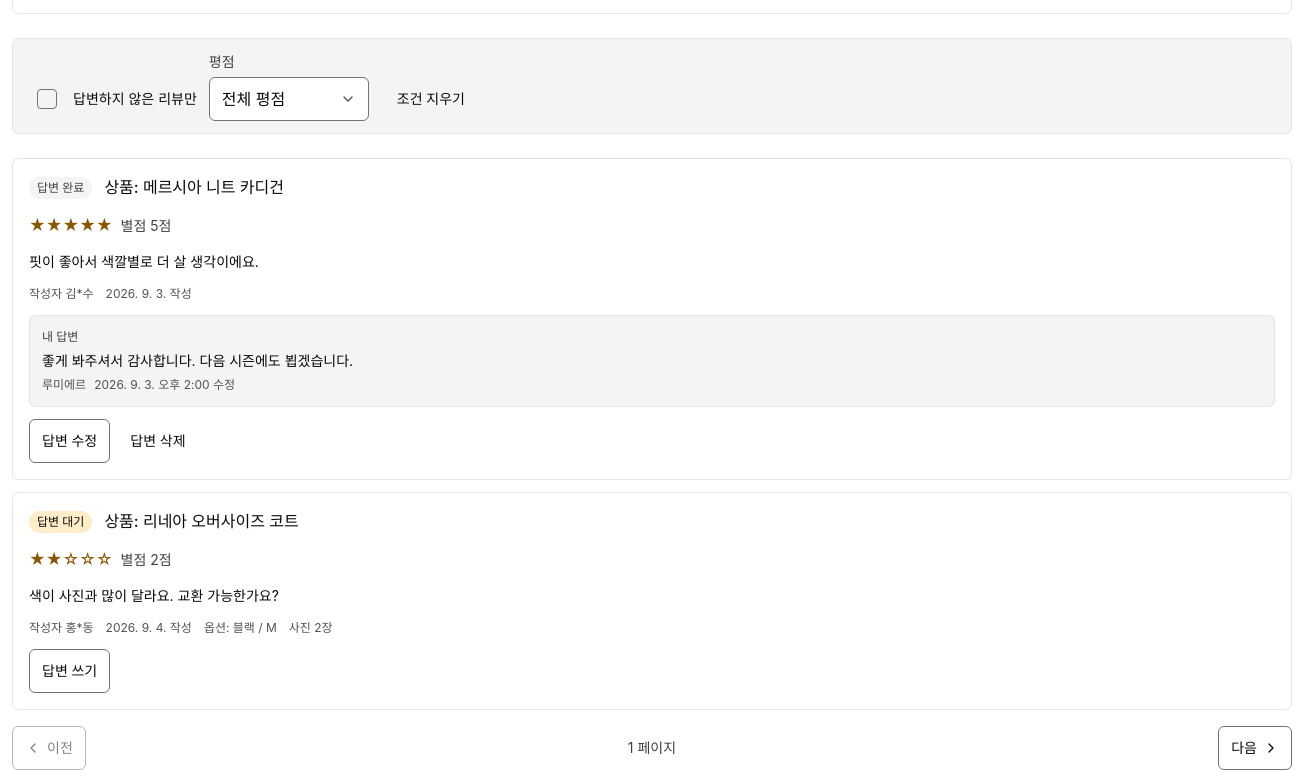
Test: the product review console › paging › hands the cursor back unchanged
(page scrolled)
Expected: the number of list items is 2, [12,158,1292,480]; [12,492,1292,710]
Click the button "다음".
click(1255, 748)  # box [1218,726,1292,769]
(page scrolled)
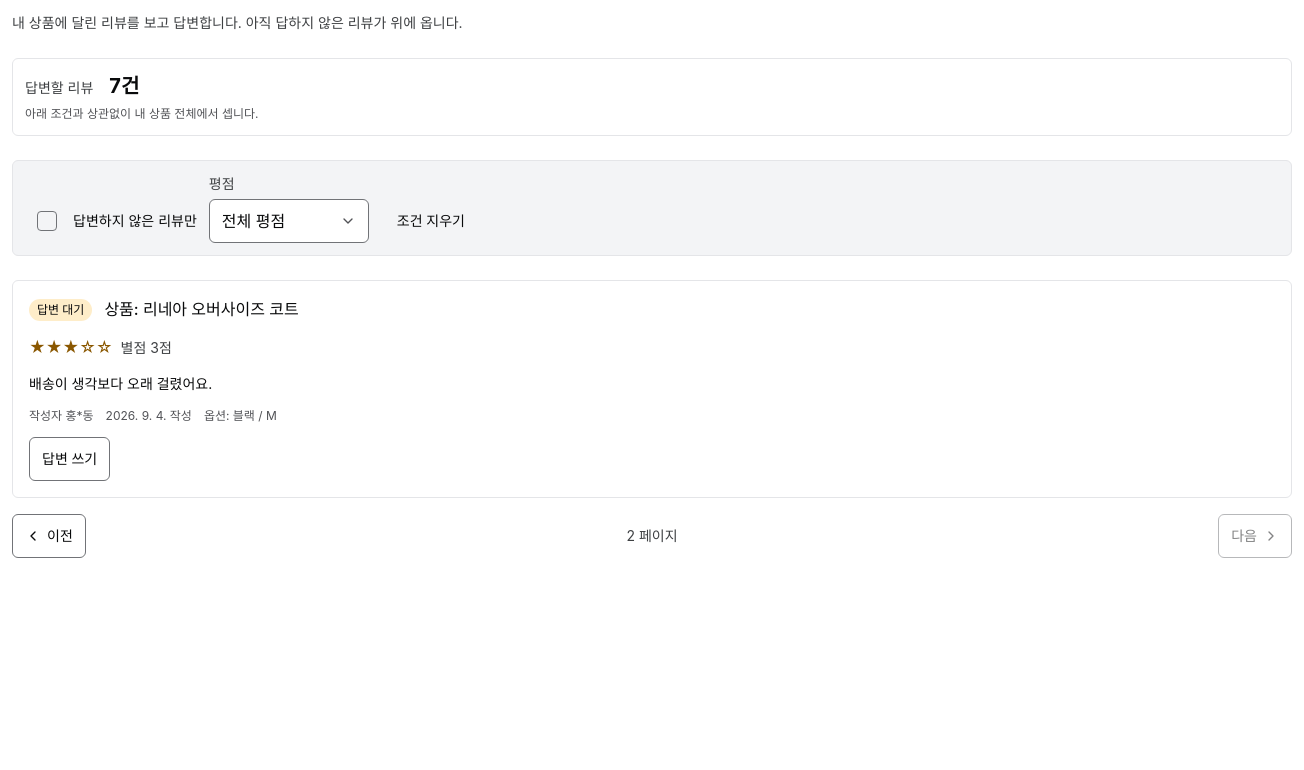
Result: the number of list items is 1 at [12,280,1292,498]
